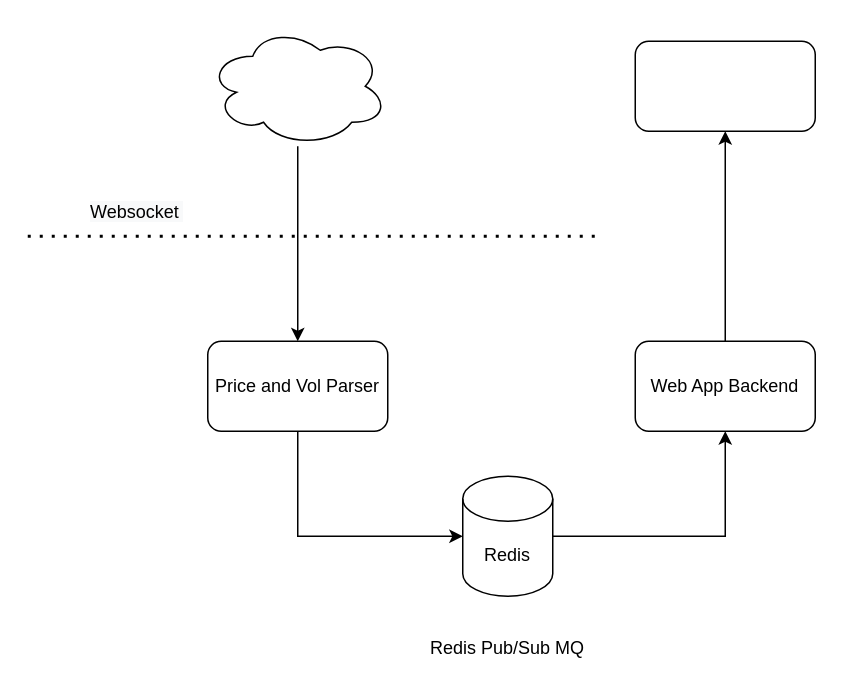
Image size: 842x698. Some labels were removed from this diagram. Here are the shapes that lost their labels. From the top down, the box of each, then its label:
(206, 25, 388, 146): Exchange
(634, 40, 815, 131): Web GUI
